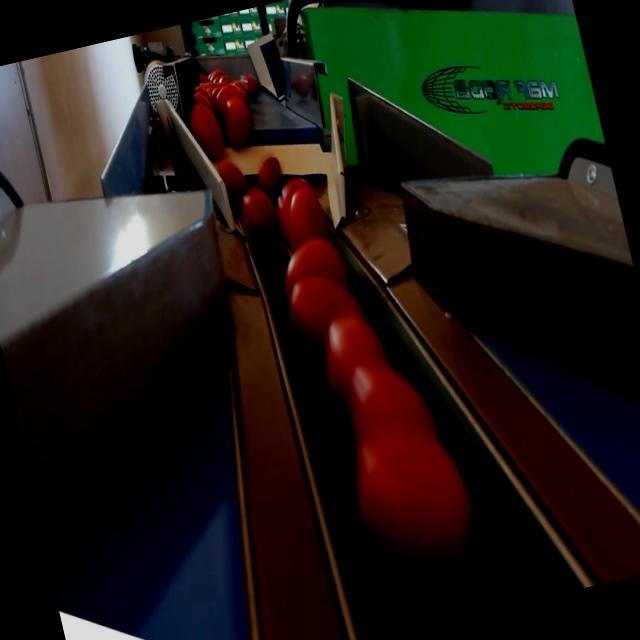Tomato: (339, 418, 482, 586), (308, 308, 392, 397), (349, 368, 432, 448), (280, 264, 364, 342), (270, 228, 350, 302), (268, 170, 324, 252), (232, 183, 282, 254), (187, 102, 229, 164), (216, 95, 258, 155), (214, 154, 248, 204), (252, 155, 290, 197), (242, 71, 260, 96)
